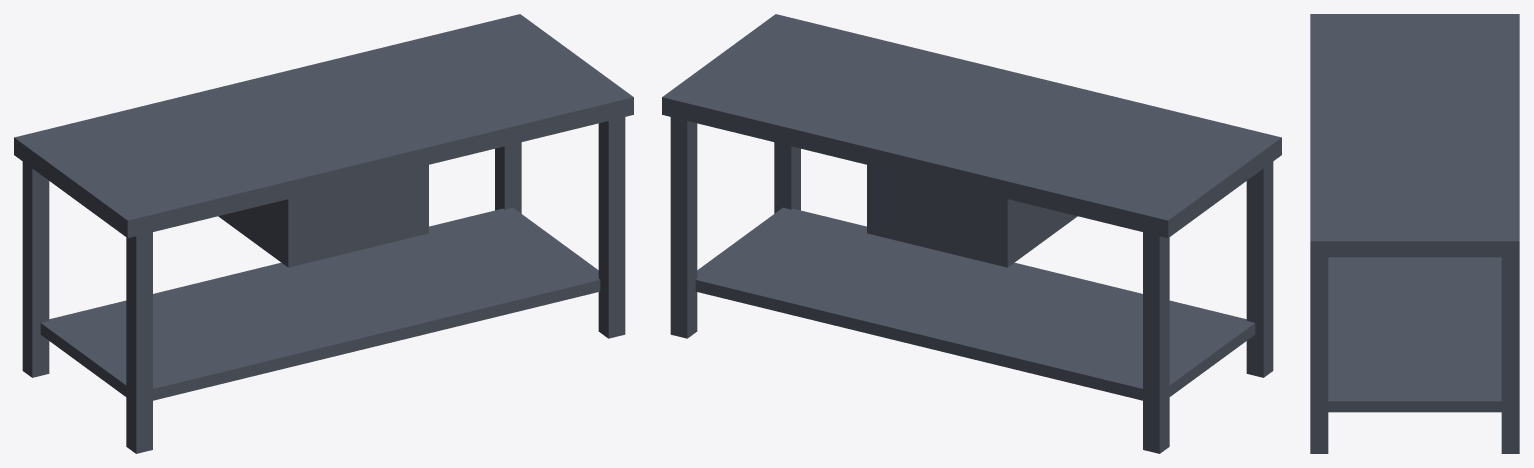
Rendered from workbench.glb.
3 renders of one model, left to right at view 1: azimuth 30°, elevation 25°; view 2: azimuth 150°, elevation 25°; view 3: azimuth 270°, elevation 25°, orthographic. The views are drawn at different scales.
Visible parts, largest first — view 1: workbench; view 2: workbench; view 3: workbench.
Boxes of the visible parts, bbox=[...] form: workbench: bbox=[14, 14, 633, 453]; workbench: bbox=[662, 14, 1281, 453]; workbench: bbox=[1310, 14, 1519, 453].
Size of the model in its own units: 1.8 by 0.8 by 0.7.
